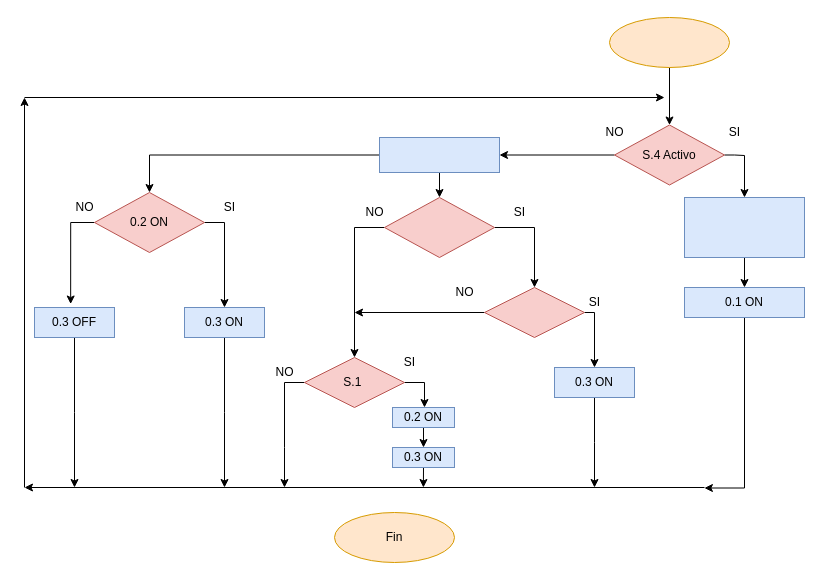
Image size: 822x580. Some labels were removed from this diagram. Each missing label, with the centre of its shape:
0.1 OFF: (439,154)
0.2 OFF 0.3 OFF: (744,227)
Inicio: (669,42)
S.2 ON: (534,312)
S.3 ON: (439,227)
